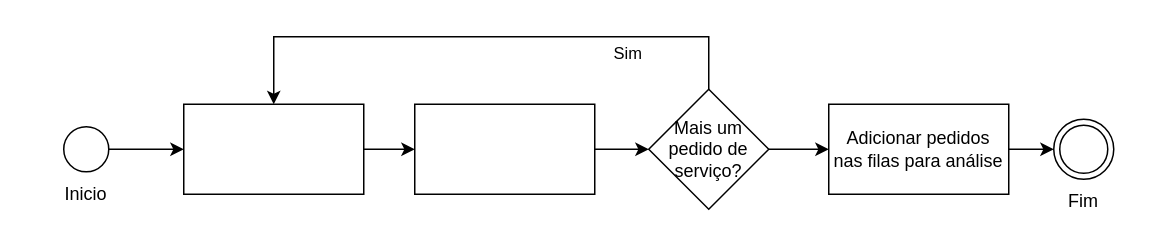
Image size: 1169x243. Some labels were removed from this diagram. The shapes that lost their labels are listed below. From the top down, each one's centre as x and y in pixels, then its label:
At (273,148): "emissão de pedido de serviço".
At (504,148): "Cadastro no sistema".
